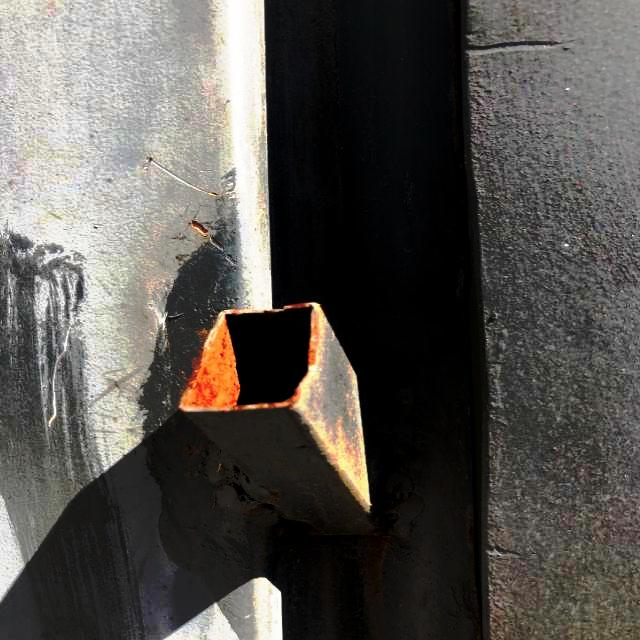Corrosion: (179, 302, 318, 411)
